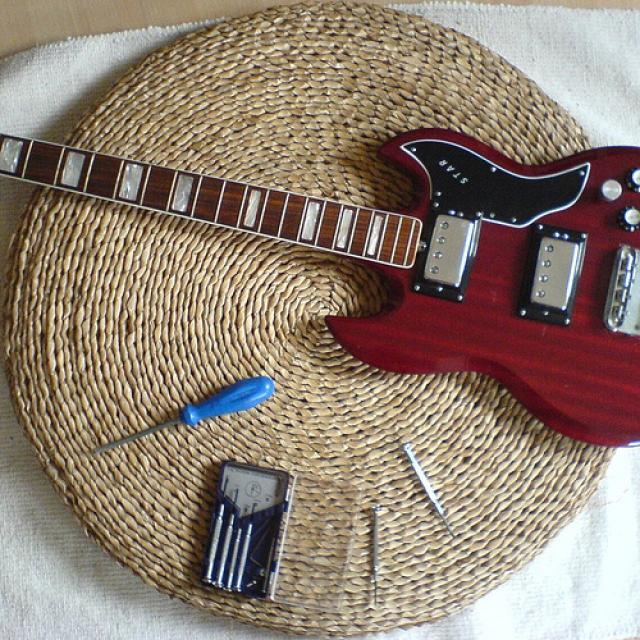screwdriver: (58, 373, 292, 470)
